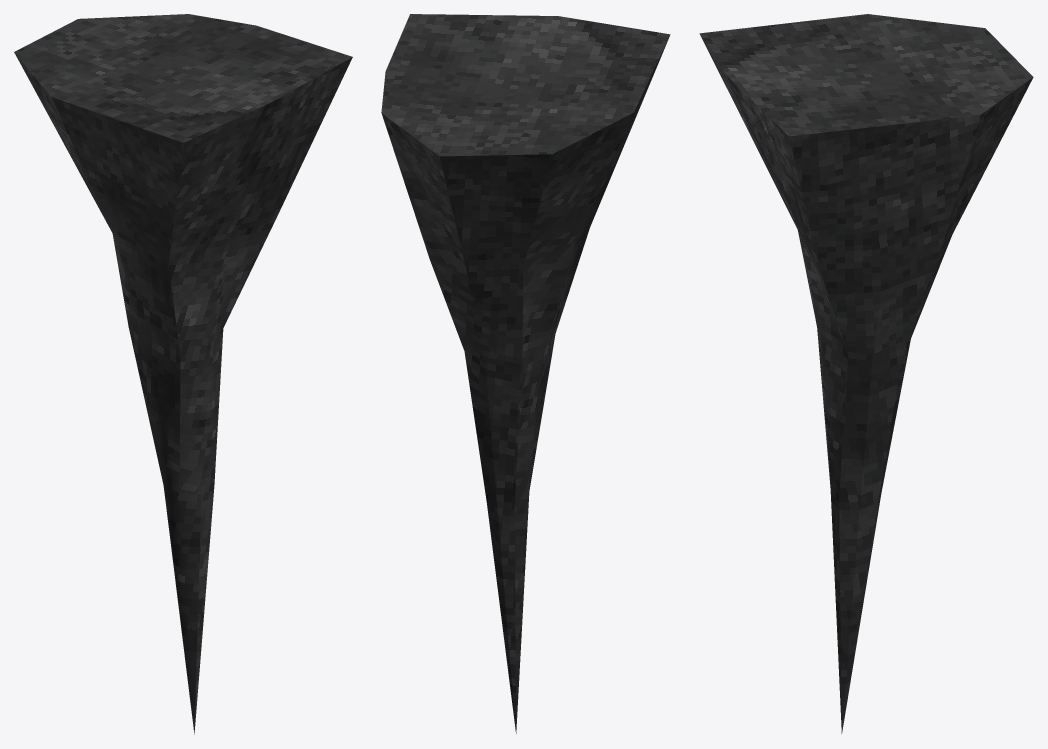
The model's file is CaveStalagmite1.glb.
3 views of the same model, side by side, from view 1: azimuth 30°, elevation 25°; view 2: azimuth 150°, elevation 25°; view 3: azimuth 270°, elevation 25° (orthographic).
Visible parts, largest first — view 1: Cylinder.017; view 2: Cylinder.017; view 3: Cylinder.017.
Boxes of the visible parts, bbox=[...] form: Cylinder.017: bbox=[14, 14, 352, 734]; Cylinder.017: bbox=[381, 14, 670, 733]; Cylinder.017: bbox=[699, 14, 1033, 733].
Bounding box in the file's own units: 1.34 × 3.27 × 1.48.
1 material, 1 textured.
